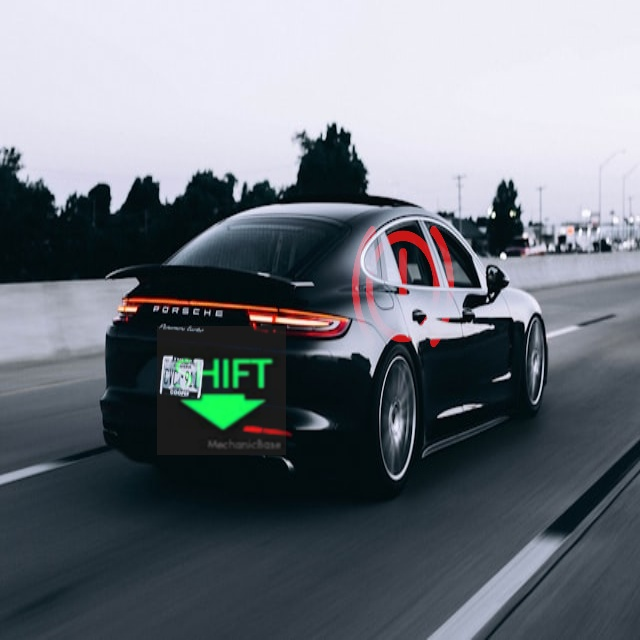symbol: (301, 180, 504, 383), (157, 326, 286, 455)
